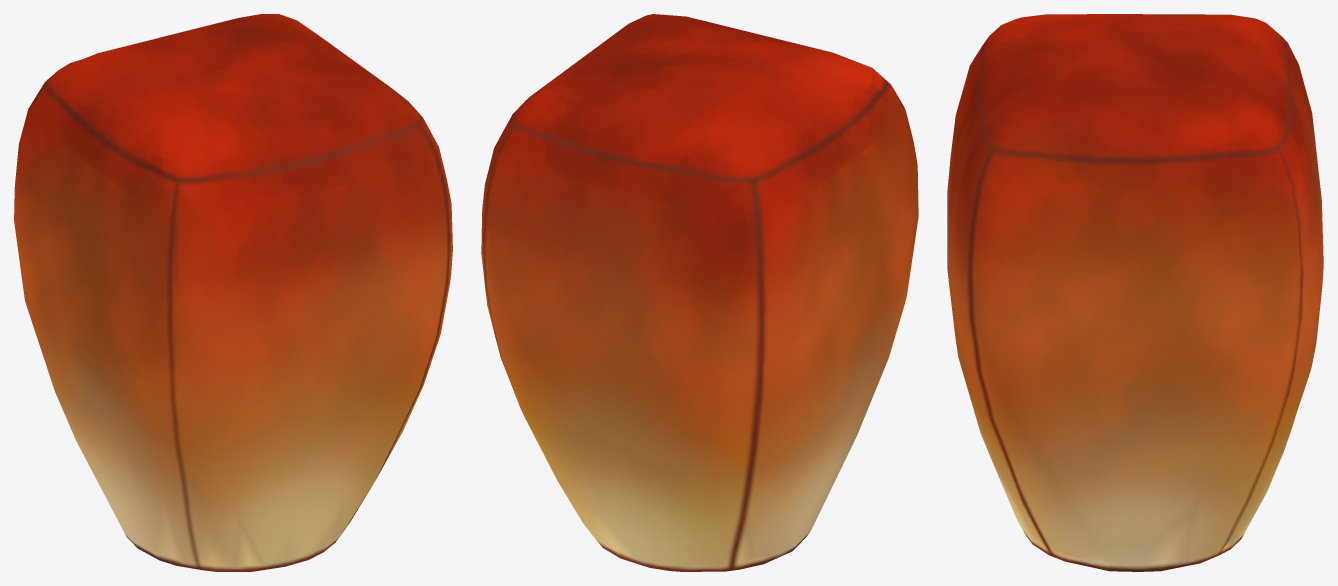
File: sky_lantern_lite.glb
The picture shows the model from 3 angles, left to right: view 1: azimuth 30°, elevation 25°; view 2: azimuth 150°, elevation 25°; view 3: azimuth 270°, elevation 25°; orthographic projection. The views are drawn at different scales.
Parts seen in each view (by area): view 1: light2; view 2: light2; view 3: light2.
Boxes of the visible parts, x1,y1,x2,y2 form: light2: (14,14,452,571); light2: (481,14,918,571); light2: (947,14,1323,571).
Bounding box in the file's own units: 2.58 × 3.63 × 2.57.
Materials: 1 (1 with a texture image).
